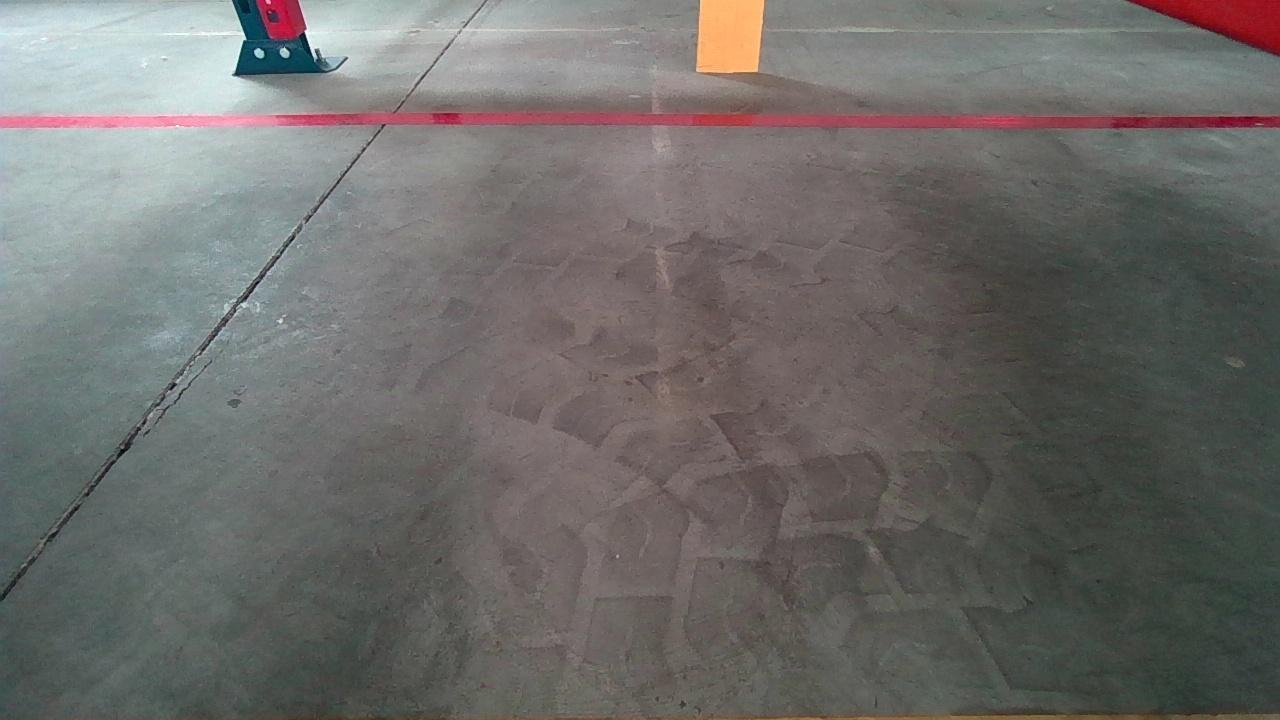red_line: (3, 108, 1278, 135)
